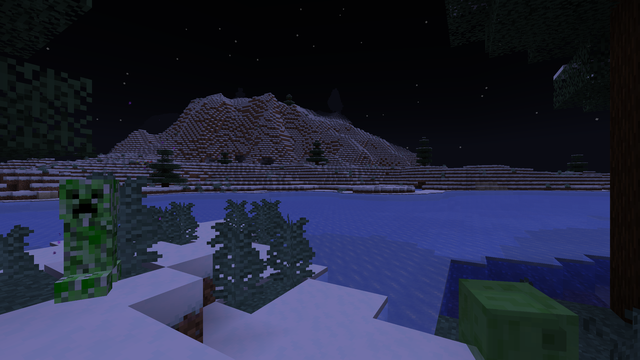creepers: (54, 173, 127, 312)
slimes: (466, 273, 570, 359)
